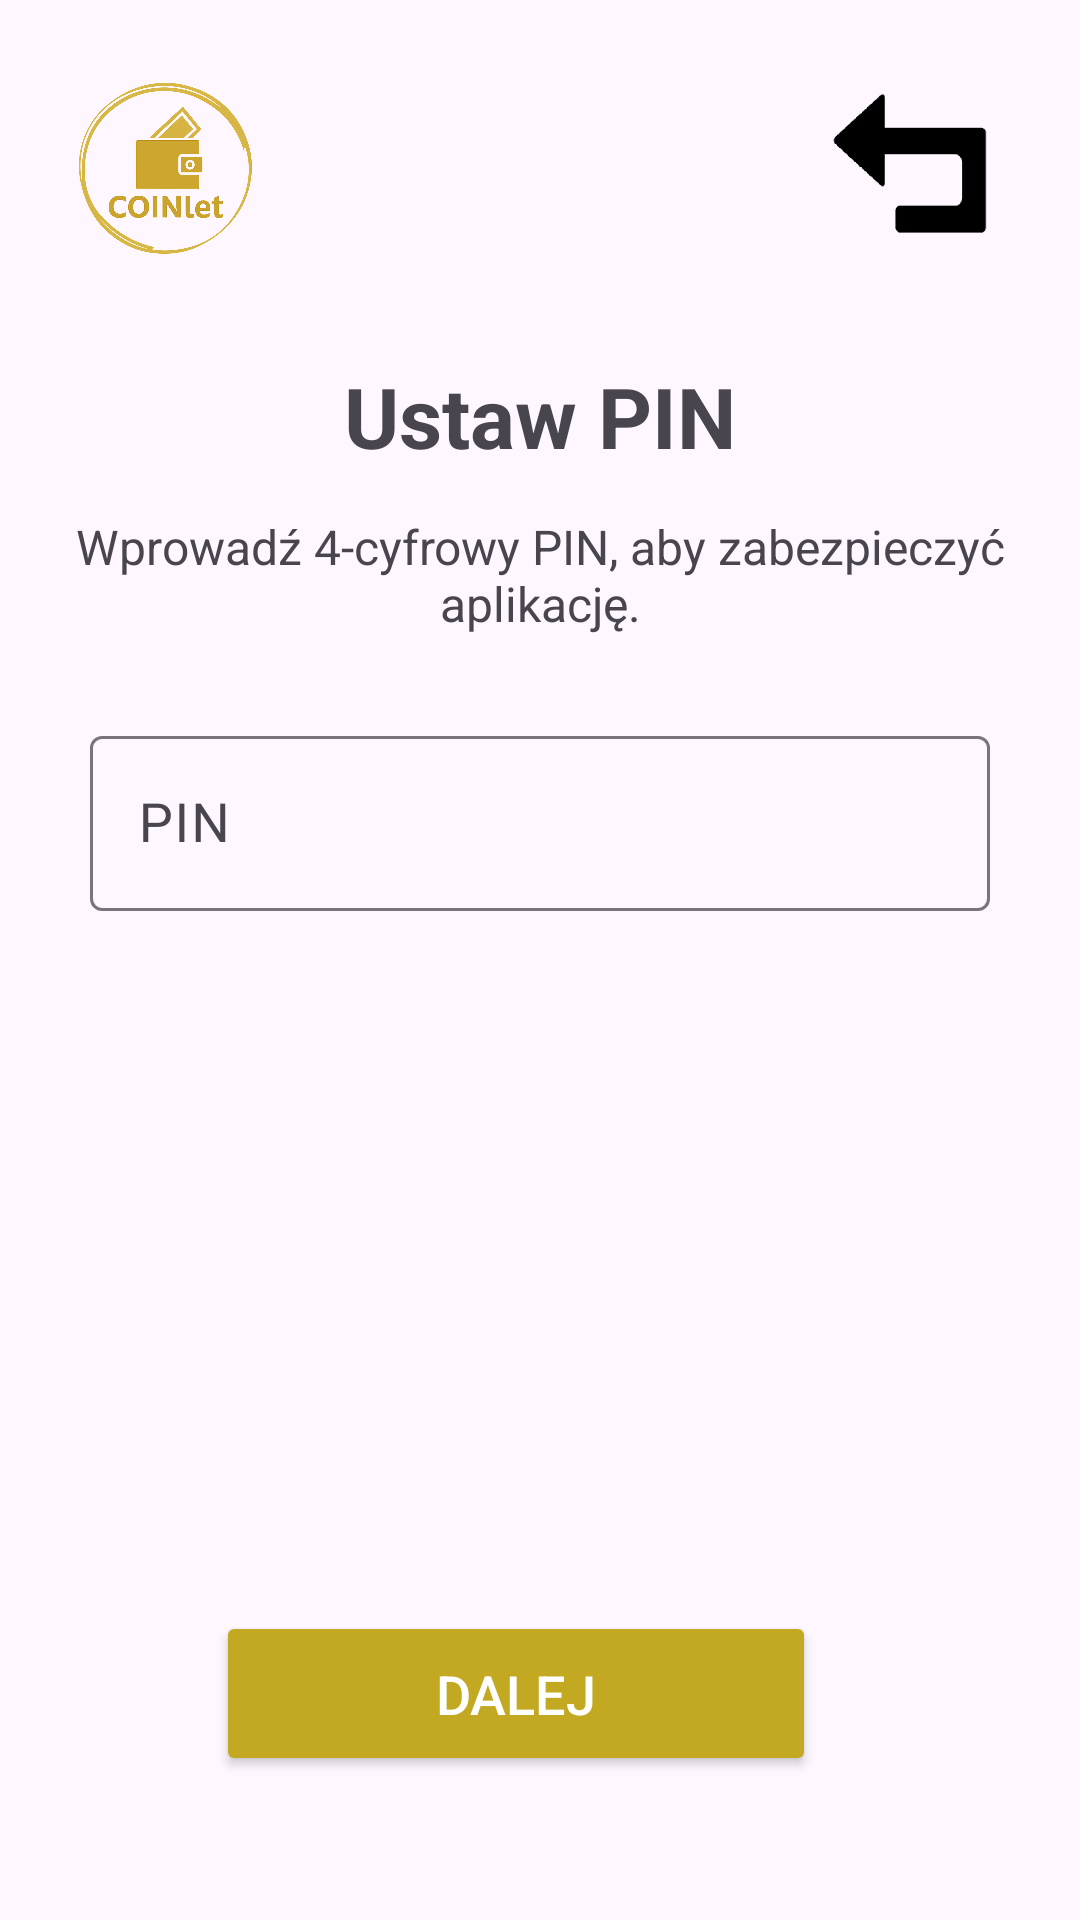

Screen size 1080*1920. Icon name, then its center in pixels as [x,y]:
back: [910,163]
